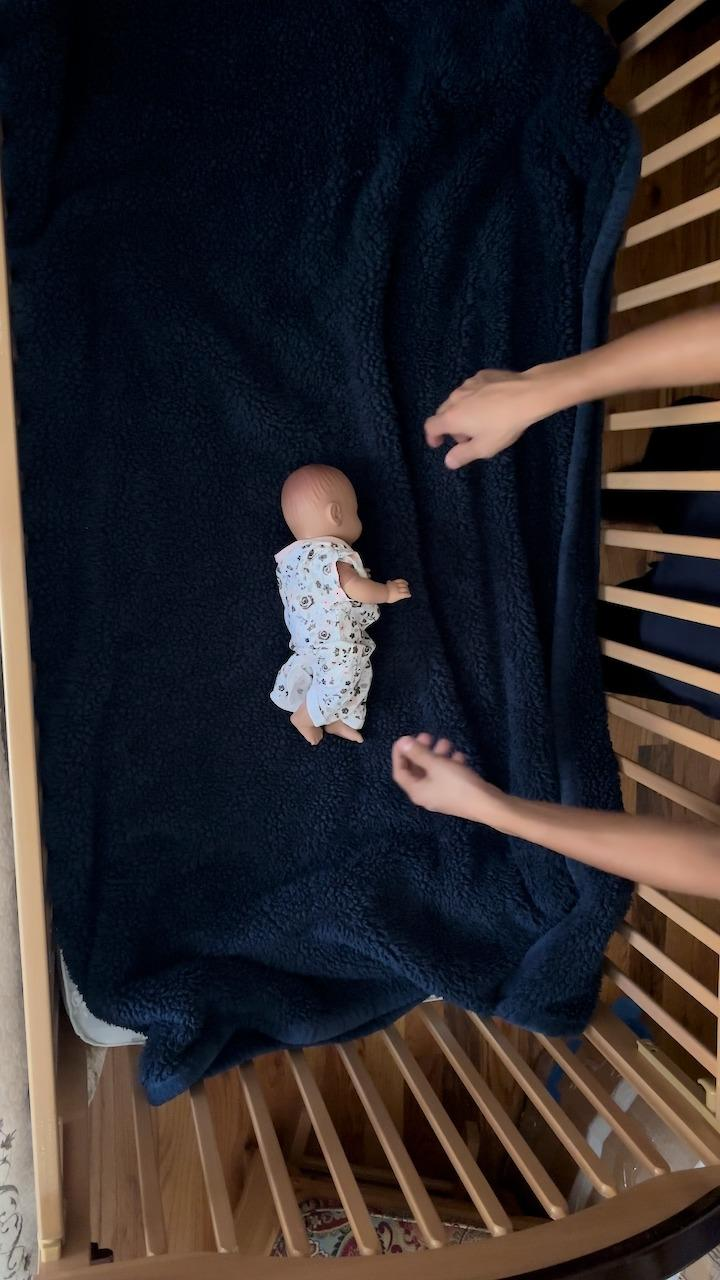baby: (260, 460, 411, 741)
